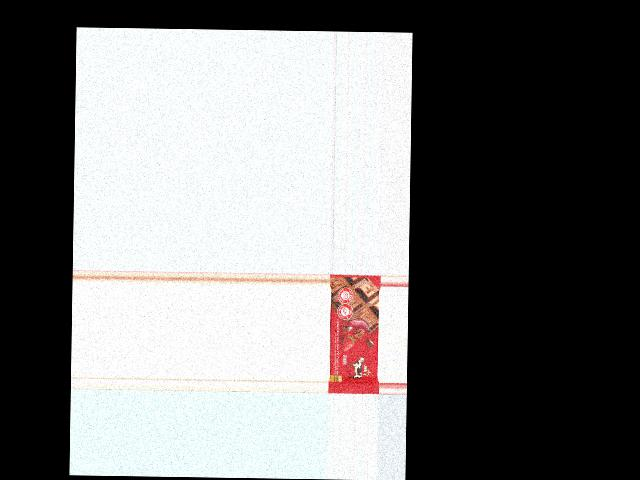chocolate: (328, 274, 380, 395)
